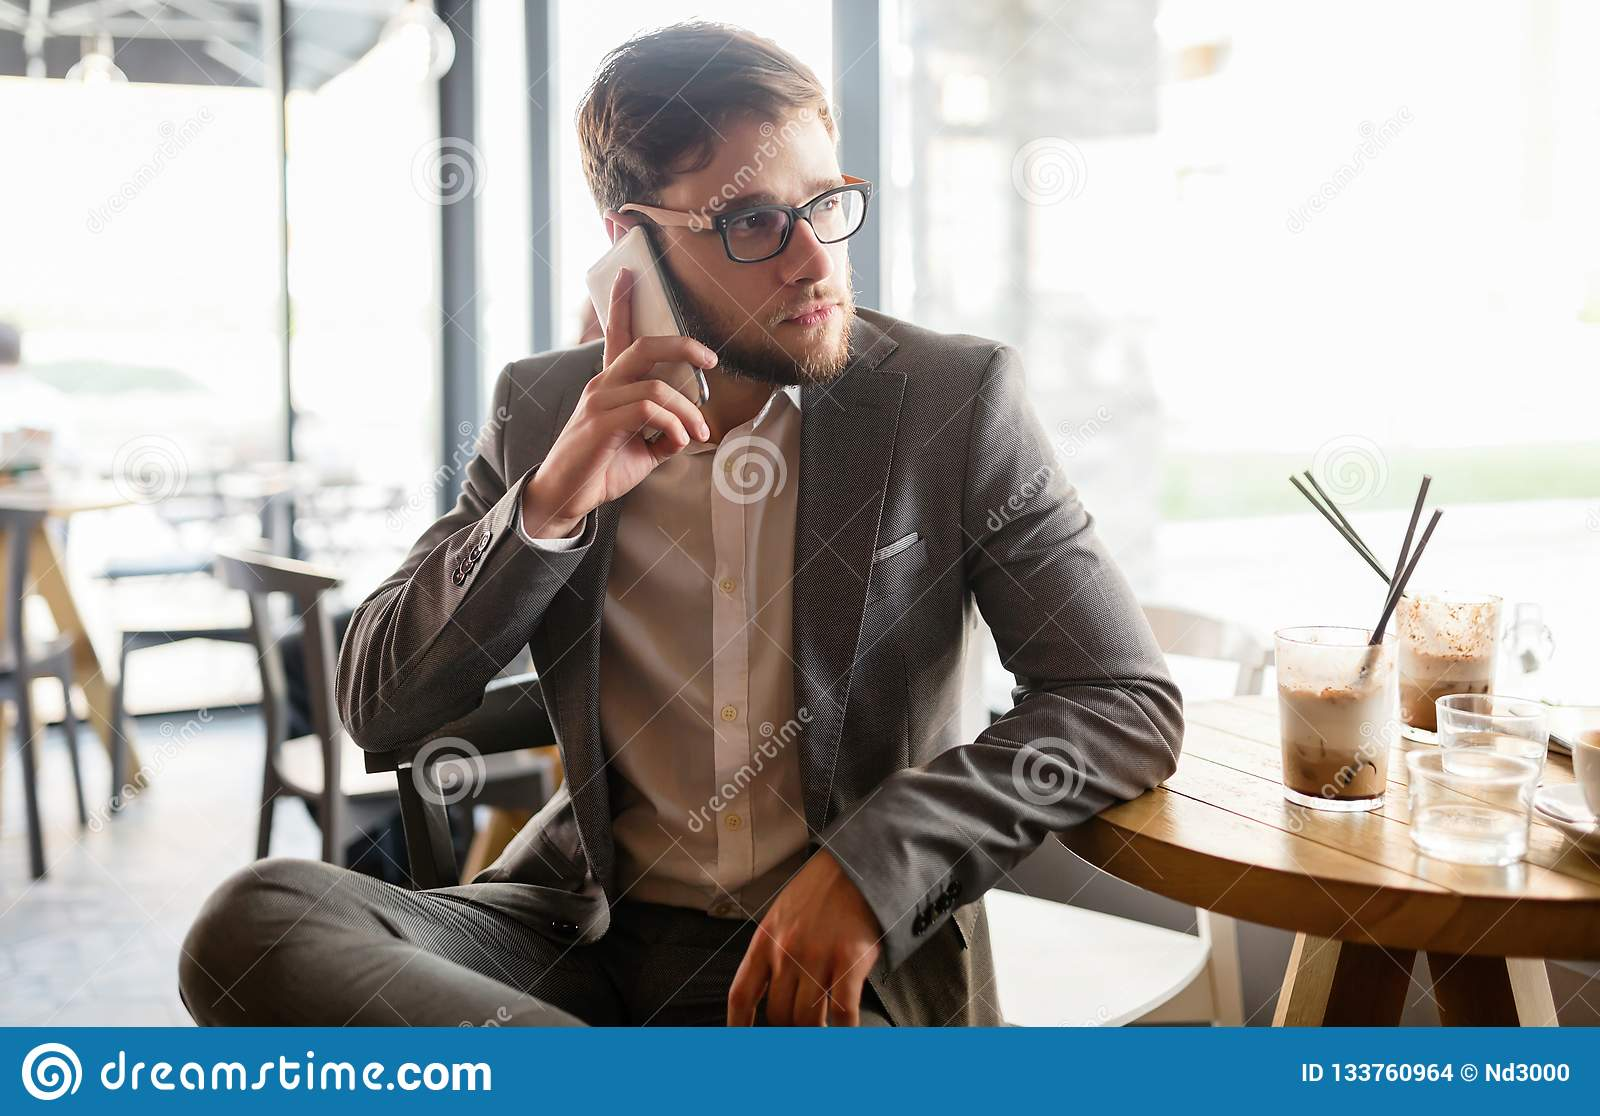phone: (588, 222, 719, 434)
talk: (539, 173, 864, 515)
